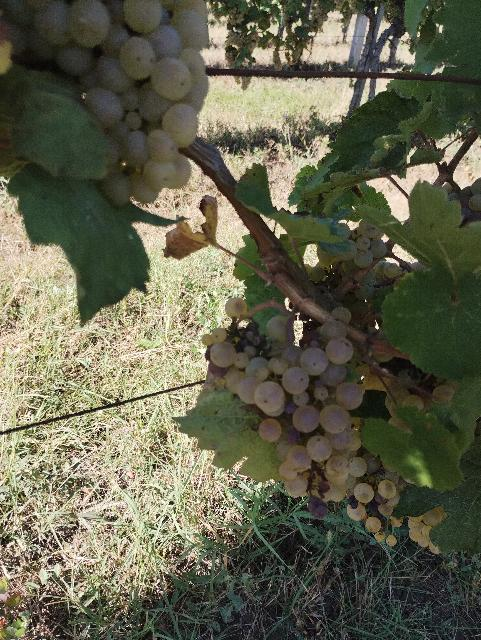grapes: (202, 299, 368, 499)
